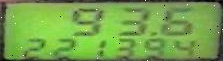-: (148, 30, 156, 35)
1: (96, 39, 106, 58)
2: (50, 38, 73, 59), (21, 38, 44, 58)
3: (117, 6, 148, 35), (114, 38, 134, 57)
4: (172, 39, 194, 56)
6: (159, 7, 192, 35)
9: (70, 6, 101, 35), (142, 38, 165, 58)
